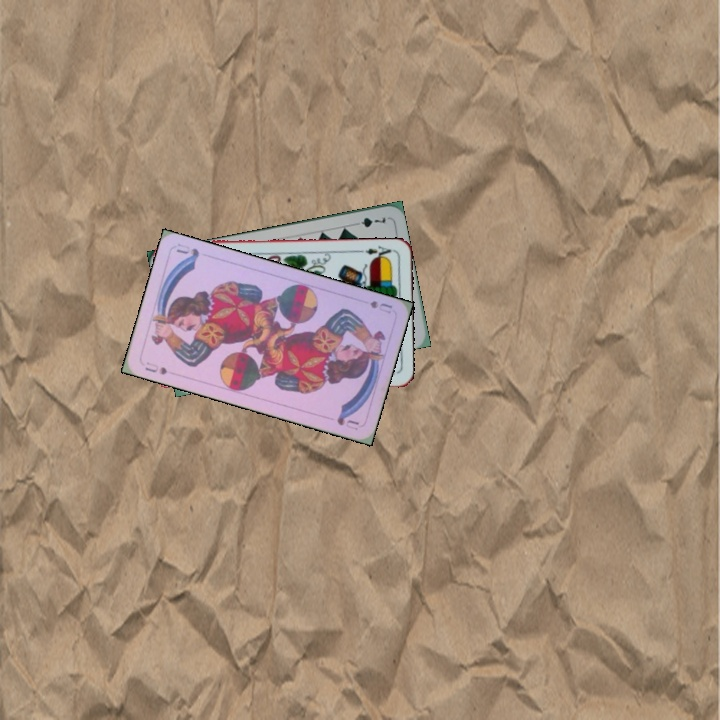EA: (361, 242, 396, 262)
G7: (348, 213, 389, 230)
SU: (366, 297, 395, 316), (141, 358, 170, 377)
